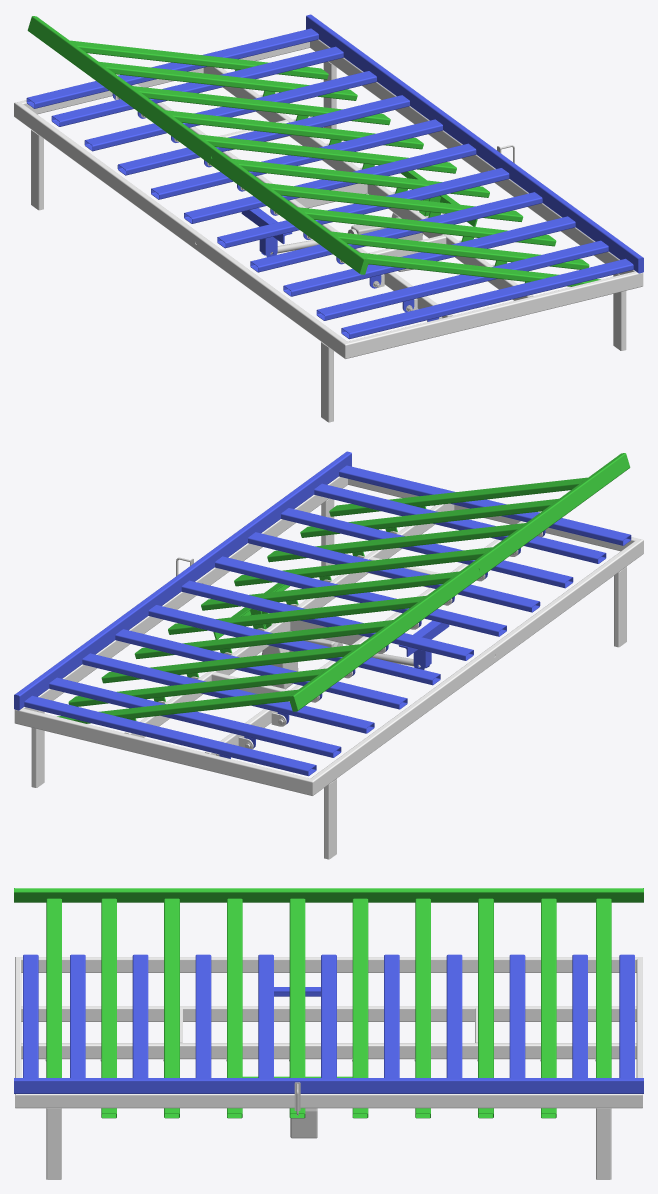
Rendered from CAMA_ROTACION_PACIENTE.glb.
3 views of the same model, one above another, from view 1: azimuth 30°, elevation 25°; view 2: azimuth 150°, elevation 25°; view 3: azimuth 270°, elevation 25° (orthographic). The views are drawn at different scales.
Parts seen in each view (by area): view 1: CAMA ROTACION PACIENTES; view 2: CAMA ROTACION PACIENTES; view 3: CAMA ROTACION PACIENTES.
Boxes of the visible parts, left/top/right/bottom form: CAMA ROTACION PACIENTES: left=14, top=14, right=643, bottom=422; CAMA ROTACION PACIENTES: left=14, top=451, right=643, bottom=859; CAMA ROTACION PACIENTES: left=14, top=888, right=643, bottom=1179.
Bounding box in the file's own units: 1.11 × 0.5709 × 2.01.
